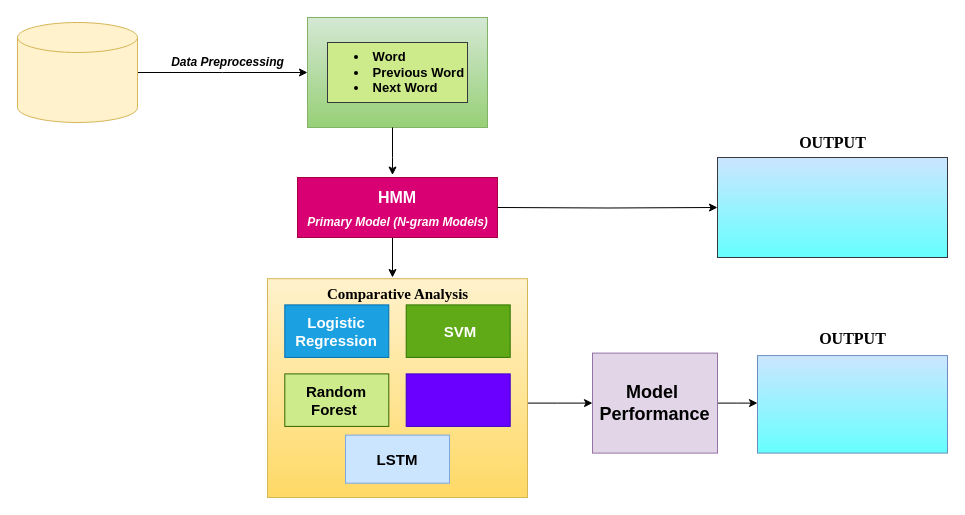
The diagram is 965 pixels wide and 515 high, and some of its shapes have lost their labels. The centre of each missing label's shape, as x and y in pixels:
"Chinese Sentences Database" belongs at (77,72).
"Handling OOV Sentiment Polarity Analysis NER" belongs at (832,207).
"LightGBM" belongs at (457,399).
"Predicted POS Tags" belongs at (852,404).
